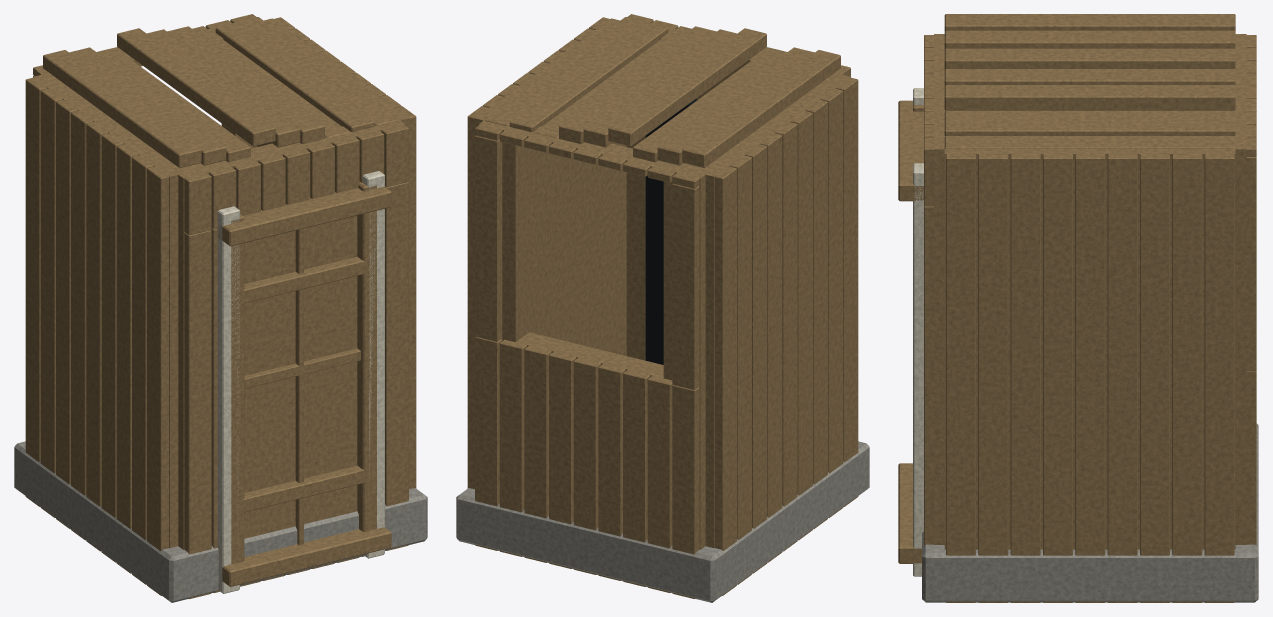
Rendered from PHONSHK2_lod1.glb.
The picture shows the model from 3 angles, left to right: view 1: azimuth 30°, elevation 25°; view 2: azimuth 150°, elevation 25°; view 3: azimuth 270°, elevation 25°; orthographic projection. The views are drawn at different scales.
Visible parts, largest first — view 1: PHONSHK2_LOD1; view 2: PHONSHK2_LOD1; view 3: PHONSHK2_LOD1.
Part boxes in pixels (left/top/right/bottom): PHONSHK2_LOD1: left=14, top=14, right=427, bottom=602; PHONSHK2_LOD1: left=456, top=14, right=869, bottom=602; PHONSHK2_LOD1: left=898, top=14, right=1258, bottom=602.
Bounding box in the file's own units: 1.75 × 2.85 × 1.98.
8 materials, 6 textured.
